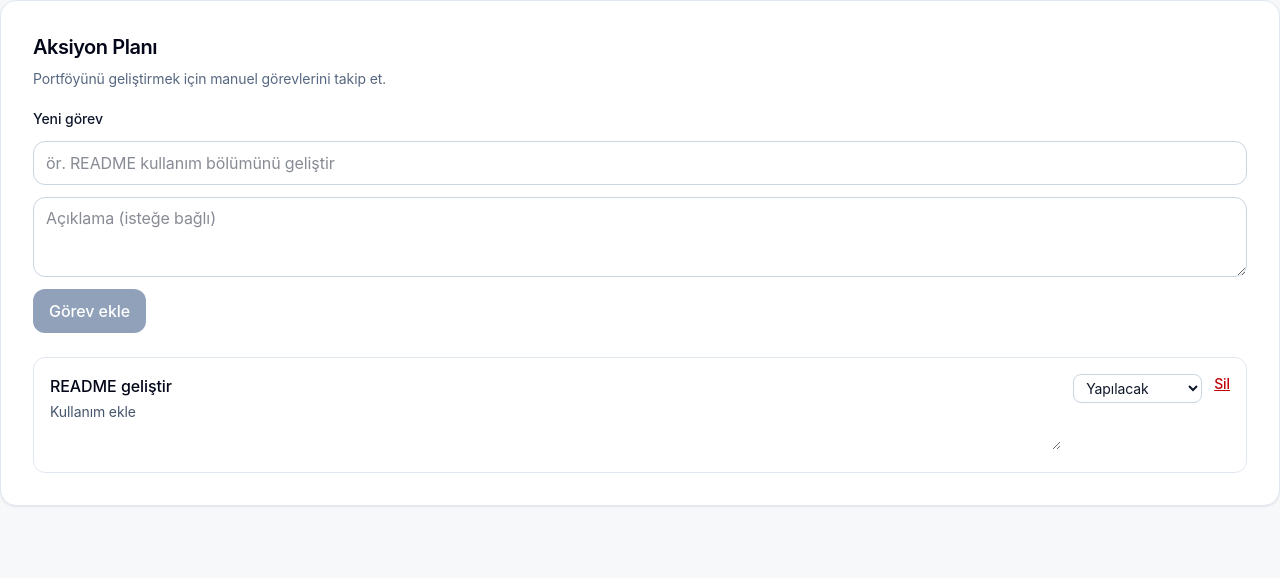
it: Aksiyon Planı çalışma alanı arayüzü › surfaces the server cap error without changing the existing list
This screenshot has width=1280, height=578.
Expected: the field showing "README geliştir" is shown, [50, 374, 1061, 398]
Type "Yeni görev" into the field labelled "Yeni görev".
click(640, 163); type("Yeni görev")  # box [33, 141, 1247, 185]
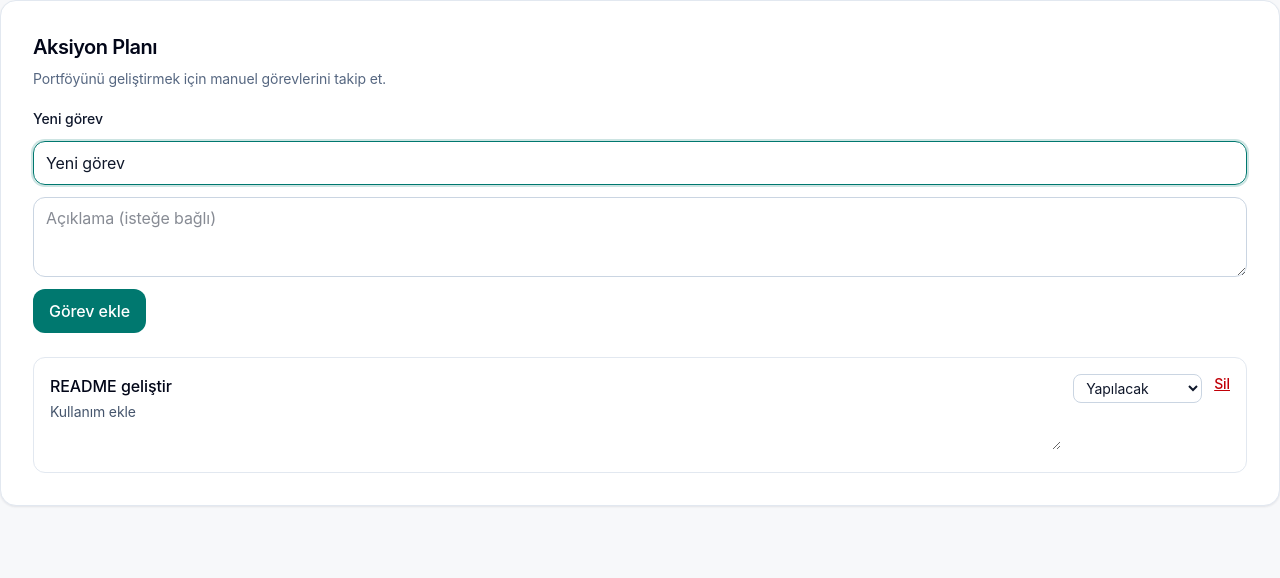
Click the button "Görev ekle".
click(90, 311)  # box [33, 289, 146, 333]
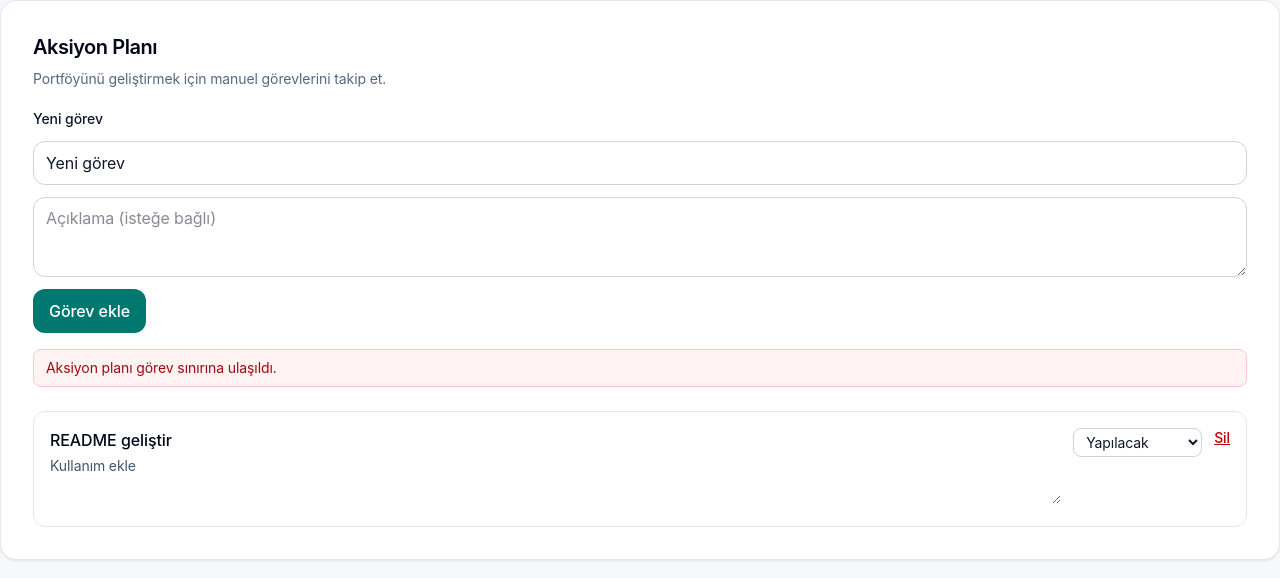
Expected: the field showing "README geliştir" is shown, [50, 428, 1061, 452]
Expected: the message reads "Aksiyon planı görev sınırına ulaşıldı.", [46, 359, 276, 376]
